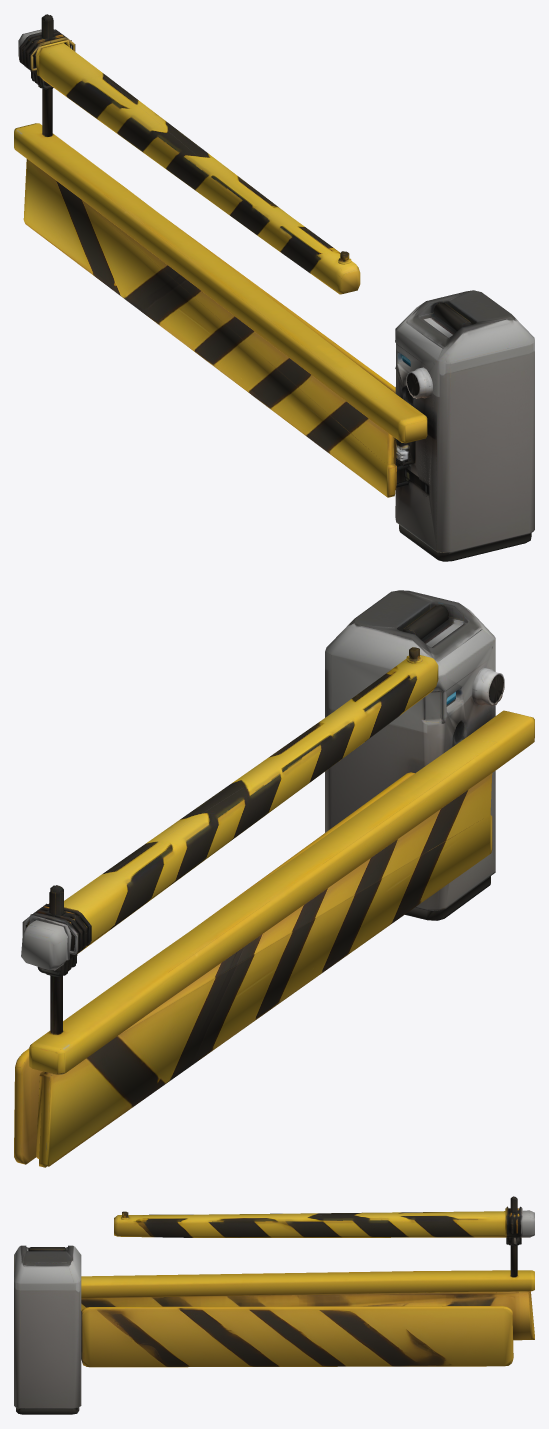
File: barrier_gate.glb
The picture shows the model from 3 angles, top to bottom: view 1: azimuth 30°, elevation 25°; view 2: azimuth 150°, elevation 25°; view 3: azimuth 270°, elevation 25°; orthographic projection. The views are drawn at different scales.
Parts seen in each view (by area): view 1: tripo_node_ce9eb7e4-2a1f-40e6-9d32-49531ddb7636; view 2: tripo_node_ce9eb7e4-2a1f-40e6-9d32-49531ddb7636; view 3: tripo_node_ce9eb7e4-2a1f-40e6-9d32-49531ddb7636.
Boxes of the visible parts, x1,y1,x2,y2 form: tripo_node_ce9eb7e4-2a1f-40e6-9d32-49531ddb7636: (14, 14, 534, 561); tripo_node_ce9eb7e4-2a1f-40e6-9d32-49531ddb7636: (14, 590, 534, 1167); tripo_node_ce9eb7e4-2a1f-40e6-9d32-49531ddb7636: (14, 1196, 534, 1414).
Bounding box in the file's own units: 0.6918 × 1.35 × 3.5.
1 material, 1 textured.
